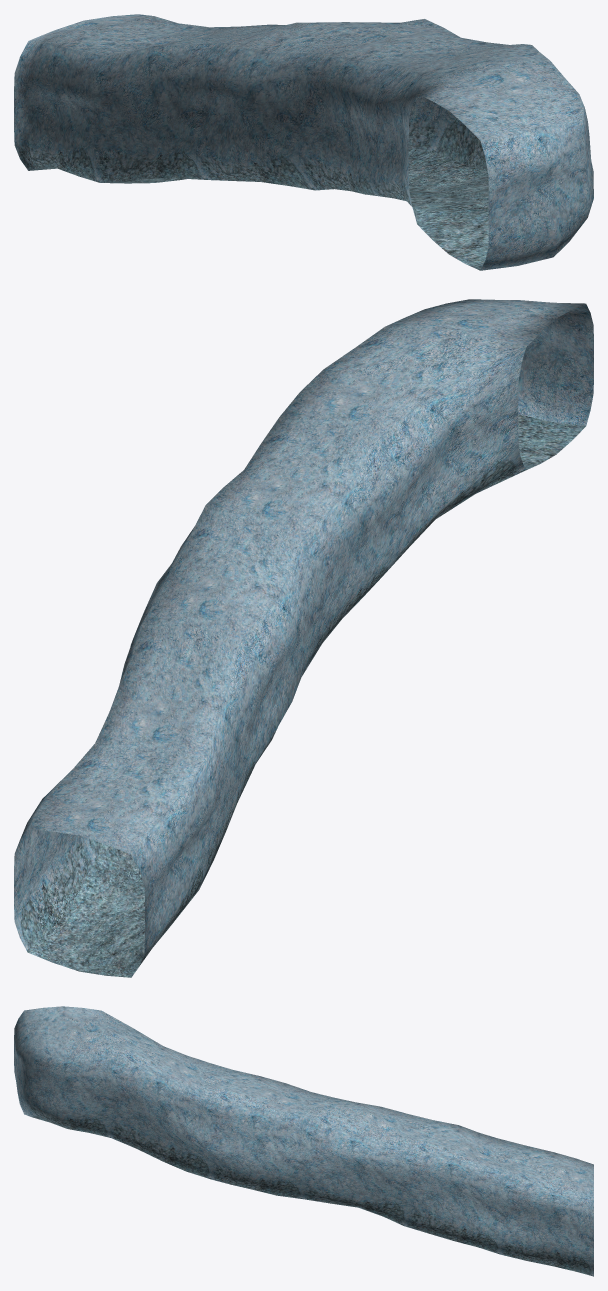
Rendered from thm_all_cave_flatland_s03_ice_r19_r19.fbx.
3 views of the same model, one above another, from view 1: azimuth 30°, elevation 25°; view 2: azimuth 150°, elevation 25°; view 3: azimuth 270°, elevation 25° (orthographic). The views are drawn at different scales.
Parts seen in each view (by area): view 1: mesh_node; view 2: mesh_node; view 3: mesh_node.
Boxes of the visible parts, x1=… form: mesh_node: x1=14, y1=14, x2=593, y2=270; mesh_node: x1=14, y1=299, x2=593, y2=977; mesh_node: x1=14, y1=1006, x2=593, y2=1276.
Size of the model in its own units: 11.49 by 21.45 by 47.48.
